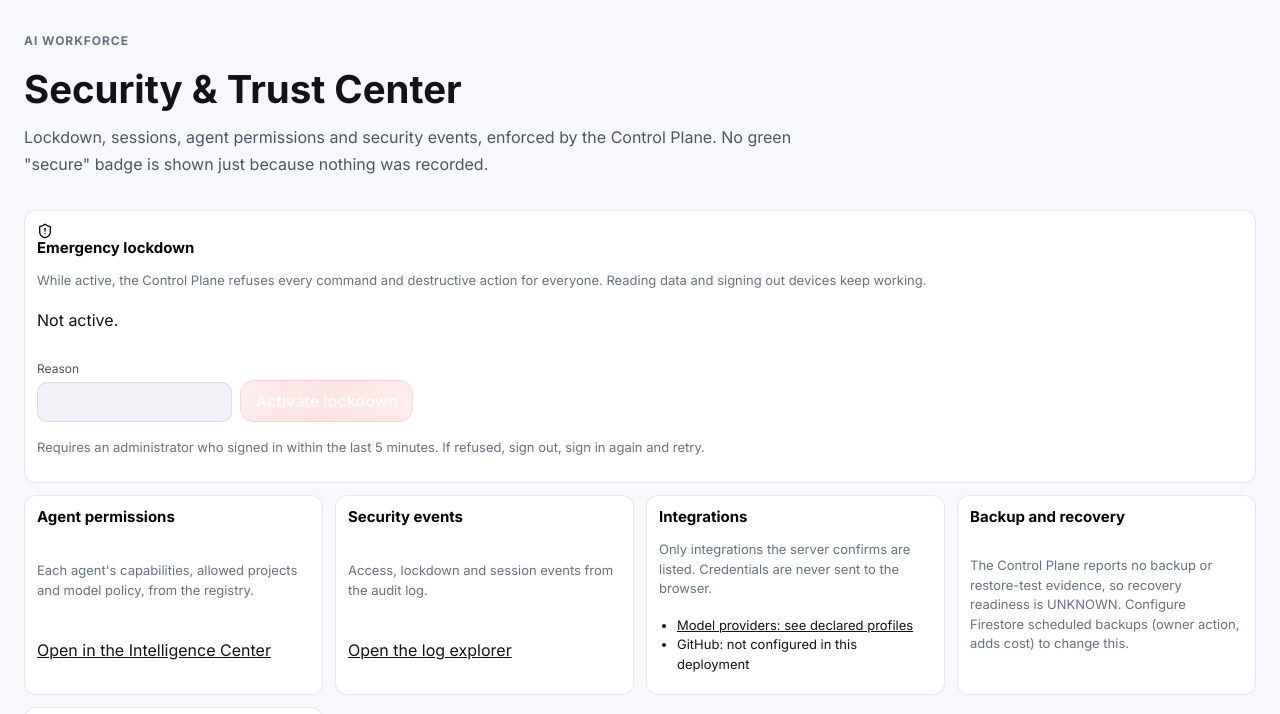
Test case: SecurityCenterPage lockdown › activates through the server and never claims a 'secure' state
Expected: the text "Not active." is shown, [37, 310, 118, 330]
In the field labelled "Reason": (134, 402) [37, 382, 232, 422], type "lost phone"
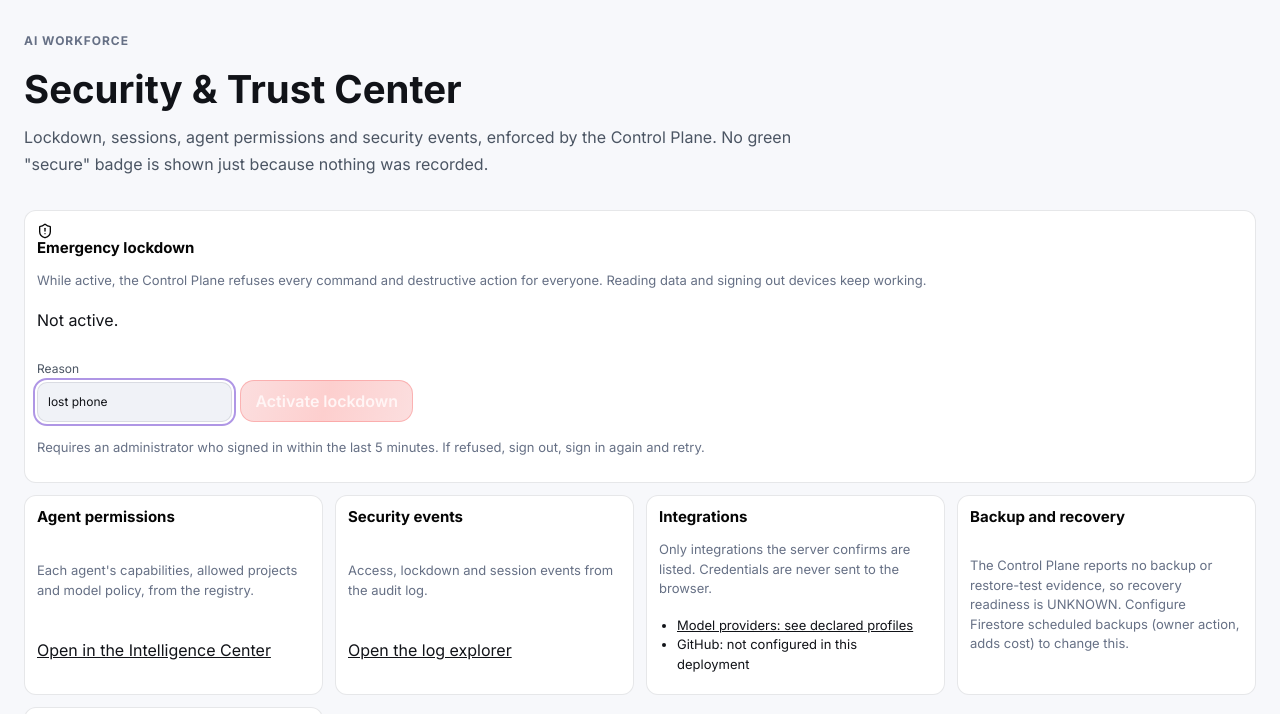
Click the button "Activate lockdown": (327, 401) [240, 380, 414, 422]
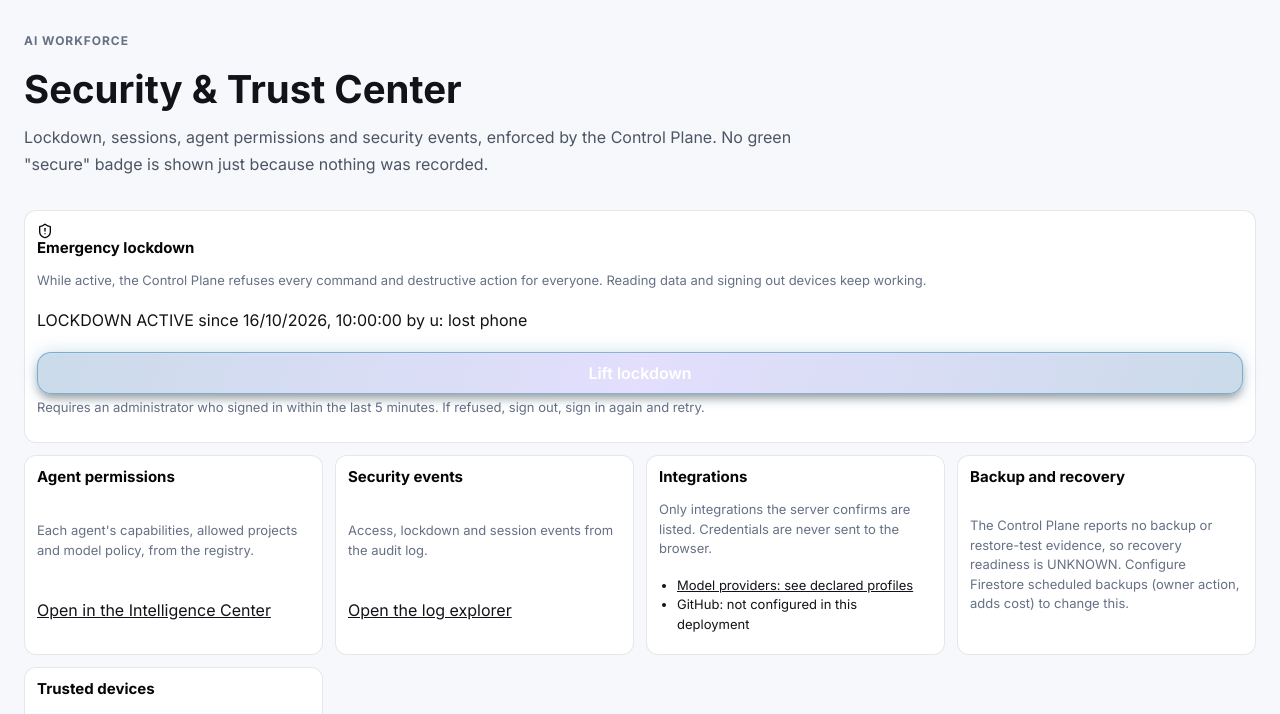
Expected: the text "recovery readiness is UNKNOWN" is shown, [970, 517, 1239, 611]
Now the text "LOCKDOWN ACTIVE since 16/10/2026, 10:00:00 by u: lost phone" is shown, box [37, 310, 527, 330]
